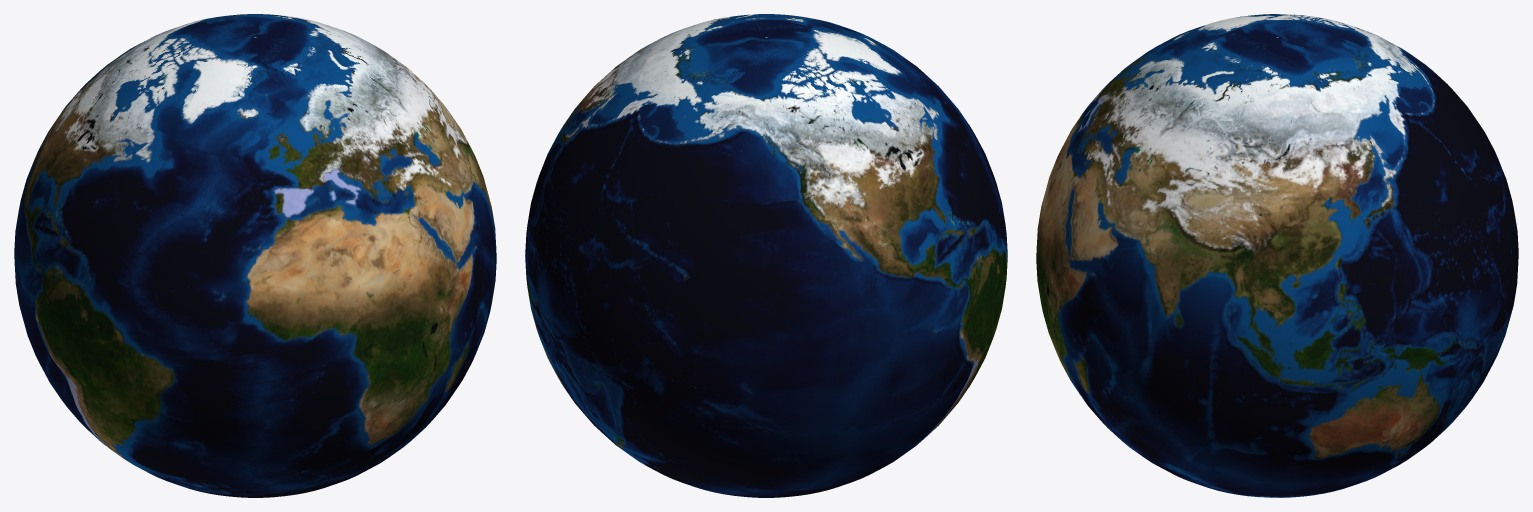
Rendered from world.obj.
The picture shows the model from 3 angles, left to right: view 1: azimuth 30°, elevation 25°; view 2: azimuth 150°, elevation 25°; view 3: azimuth 270°, elevation 25°; orthographic projection.
Visible parts, largest first — view 1: object_1; view 2: object_1; view 3: object_1.
Part boxes in pixels (left/top/right/bottom): object_1: left=14, top=14, right=496, bottom=497; object_1: left=525, top=14, right=1007, bottom=497; object_1: left=1036, top=14, right=1518, bottom=497.
Bounding box in the file's own units: 126 × 126 × 126.
